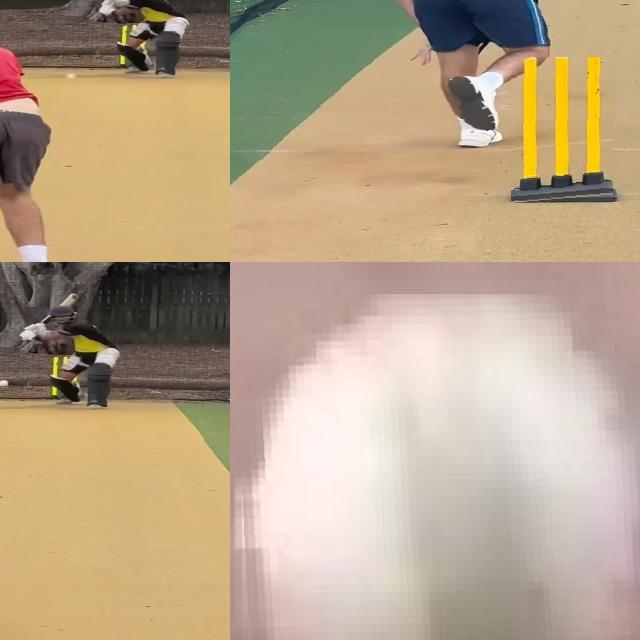Cricket ball: (232, 294, 640, 640), (0, 379, 12, 389), (65, 72, 79, 80)
Stumps: (511, 58, 616, 204), (119, 23, 150, 69)
